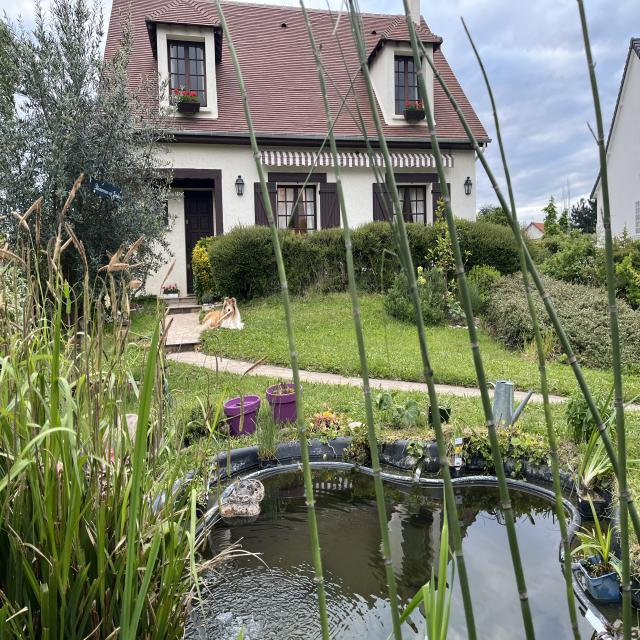Dog: (194, 286, 249, 345)
